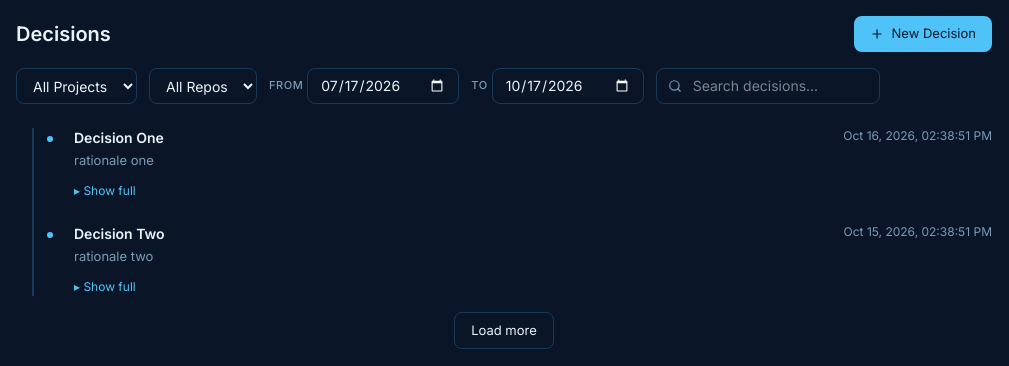
Test case: DecisionsPage load-more / next-page-error branches › [F1003-13] keeps the load-more button visible when the client-side search filters out every loaded row
Step 1. Type "no-such-decision-matches-this-query" into the field labelled "Search decisions..." → point(768, 86), box [656,68,880,104]
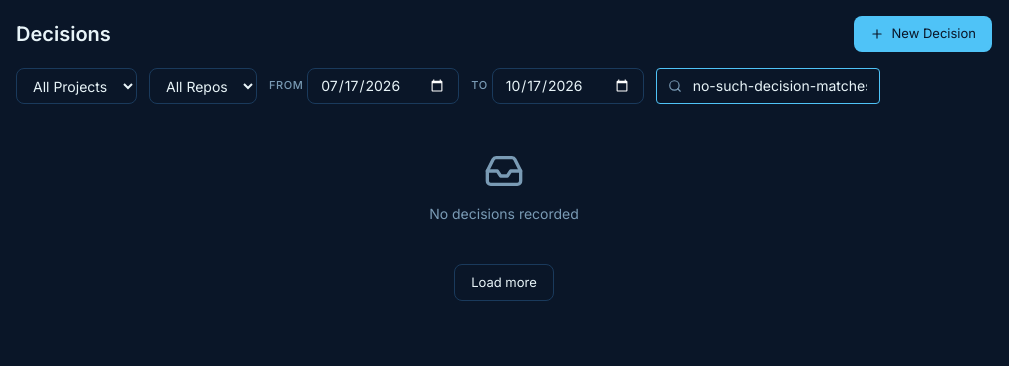
Expected: the button "Load more" is shown, [454,264,554,301]
Expected: the heading "Decision One" is gone
